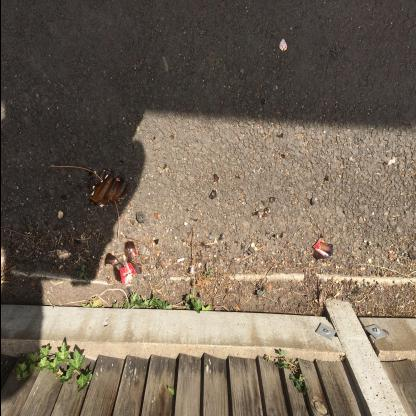cam: (87, 169, 129, 208), (103, 241, 141, 284), (311, 239, 333, 261)
